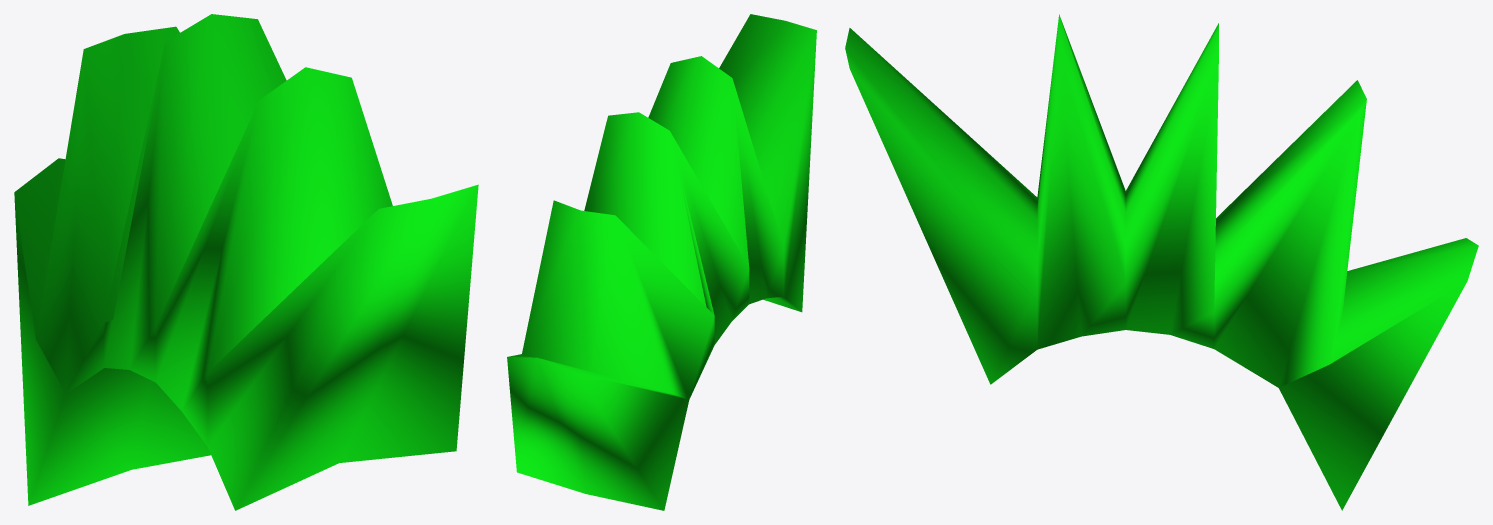
File: amogus-hat-punk.fbx
3 views of the same model, side by side, from view 1: azimuth 30°, elevation 25°; view 2: azimuth 150°, elevation 25°; view 3: azimuth 270°, elevation 25° (orthographic). The views are drawn at different scales.
Parts seen in each view (by area): view 1: PunkHat; view 2: PunkHat; view 3: PunkHat.
Part boxes in pixels (box(x1,y1,x2,y2)): PunkHat: box(14, 14, 478, 510); PunkHat: box(507, 14, 816, 510); PunkHat: box(845, 14, 1478, 510).
Size of the model in its own units: 32.56 by 94.99 by 75.03.
